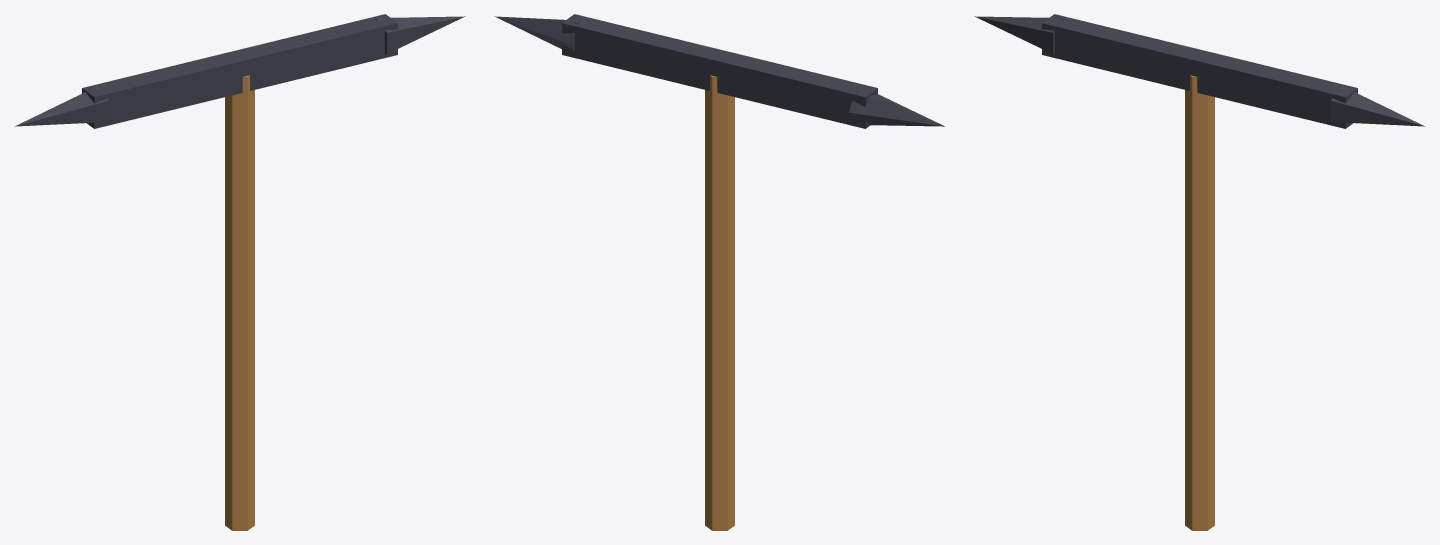
Rendered from pickaxe.glb.
3 views of the same model, side by side, from view 1: azimuth 30°, elevation 25°; view 2: azimuth 150°, elevation 25°; view 3: azimuth 330°, elevation 25° (orthographic).
Parts seen in each view (by area): view 1: pickaxe; view 2: pickaxe; view 3: pickaxe.
Part boxes in pixels (x1=…): pickaxe: x1=15, y1=14, x2=465, y2=530; pickaxe: x1=494, y1=14, x2=944, y2=530; pickaxe: x1=974, y1=14, x2=1424, y2=530.
Size of the model in its own units: 1.04 by 1.04 by 0.0724.
